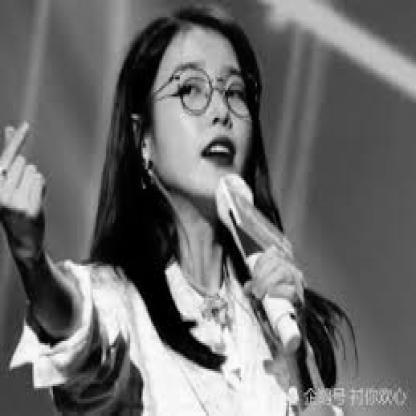glasses: (131, 67, 282, 125)
hands: (0, 103, 88, 347), (235, 239, 317, 308)
mouth: (193, 135, 247, 171)
